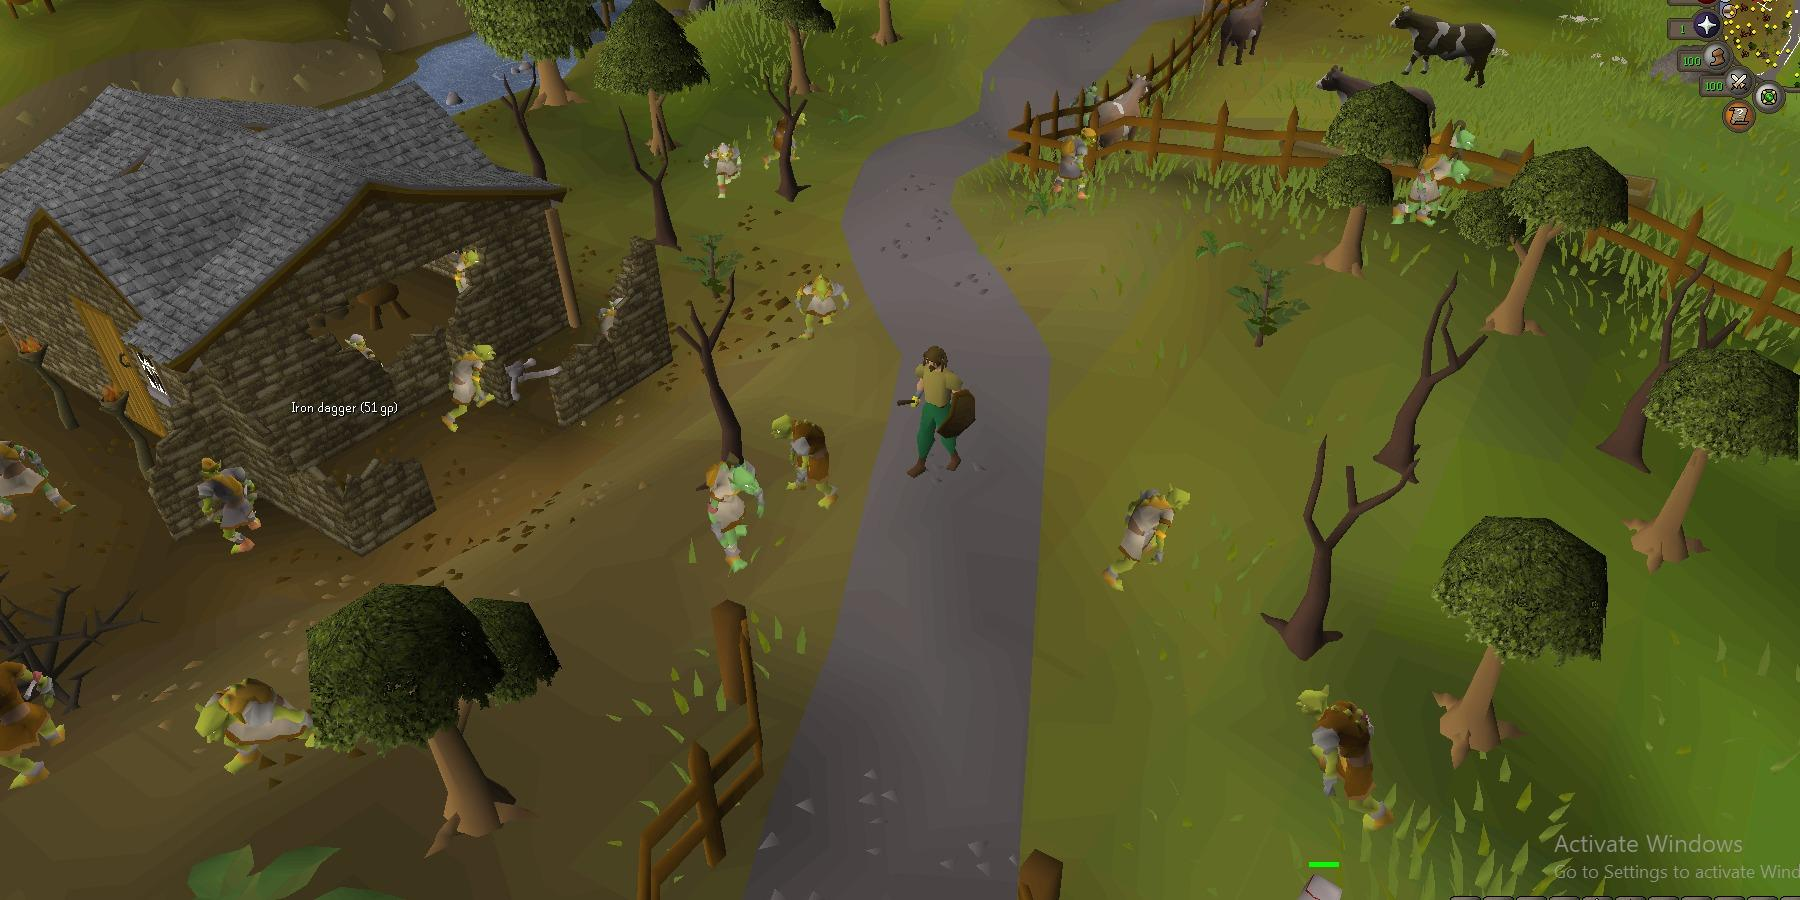goblin: (1291, 683, 1395, 831), (196, 676, 327, 774), (1102, 483, 1190, 593), (0, 660, 67, 790), (701, 451, 769, 574), (770, 412, 840, 509), (0, 440, 76, 523), (1391, 150, 1471, 230), (196, 457, 261, 554), (441, 344, 498, 432), (796, 274, 849, 340), (1052, 127, 1097, 201), (1066, 82, 1103, 127), (1422, 118, 1476, 149), (598, 298, 627, 340), (453, 250, 481, 293)
